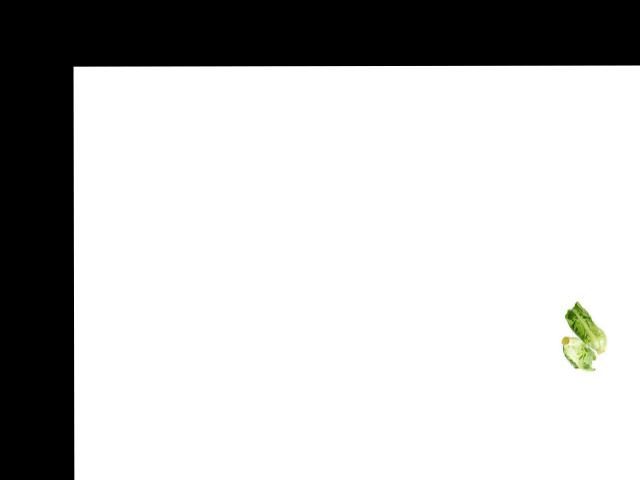lettuce: (553, 304, 608, 373)
